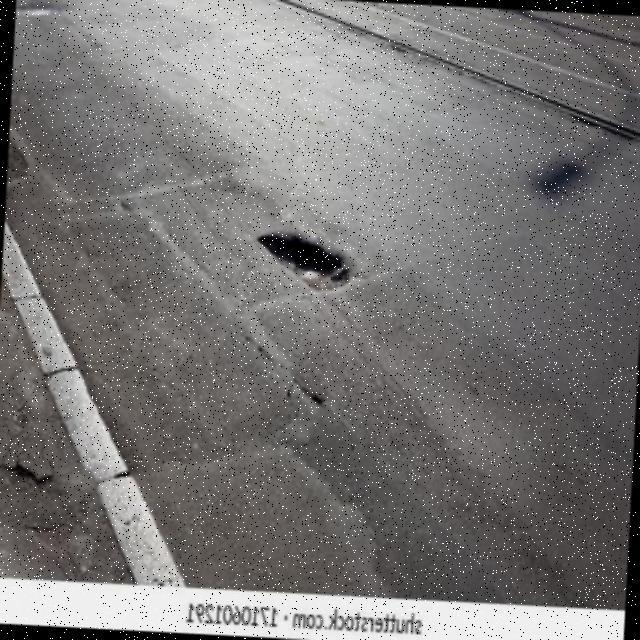Pothole: (257, 234, 354, 293)
